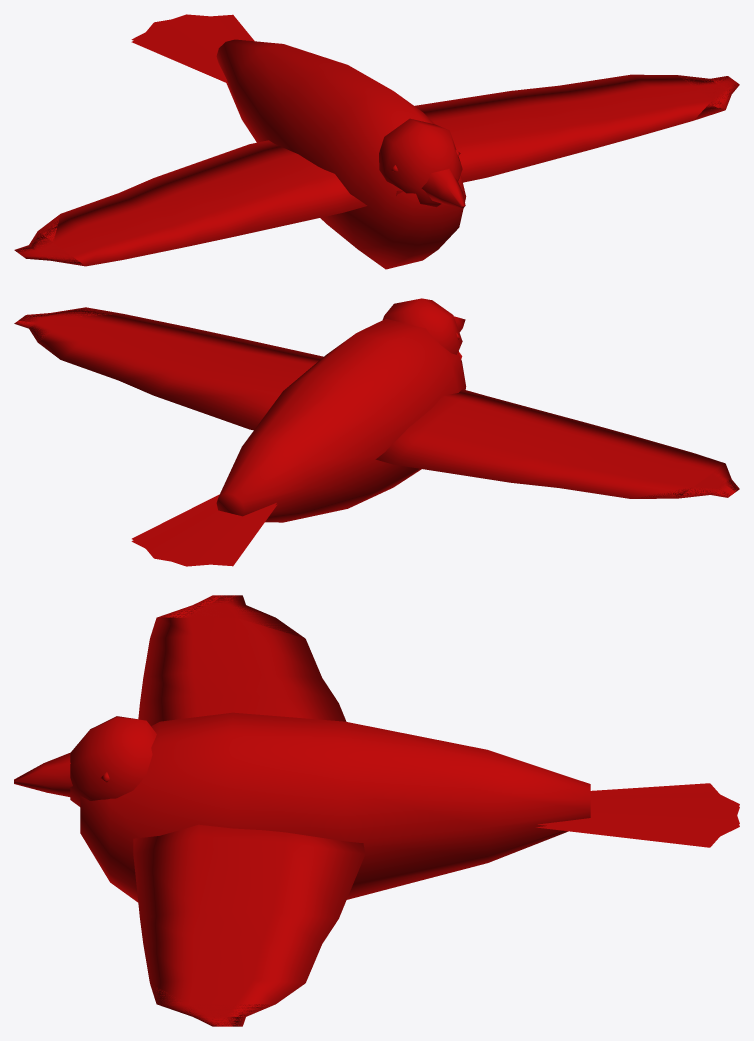
Rendered from capercaillie.glb.
The picture shows the model from 3 angles, top to bottom: view 1: azimuth 30°, elevation 25°; view 2: azimuth 150°, elevation 25°; view 3: azimuth 270°, elevation 25°; orthographic projection. The views are drawn at different scales.
Parts seen in each view (by area): view 1: wing, body; view 2: wing, body; view 3: body, wing.
Boxes of the visible parts, <box> form: wing: <box>14,74,739,266</box>; body: <box>131,14,466,269</box>; wing: <box>14,307,739,498</box>; body: <box>131,298,466,566</box>; body: <box>14,712,739,902</box>; wing: <box>133,595,365,1026</box>.
Bounding box in the file's own units: 1.2 × 0.2461 × 0.8555.
